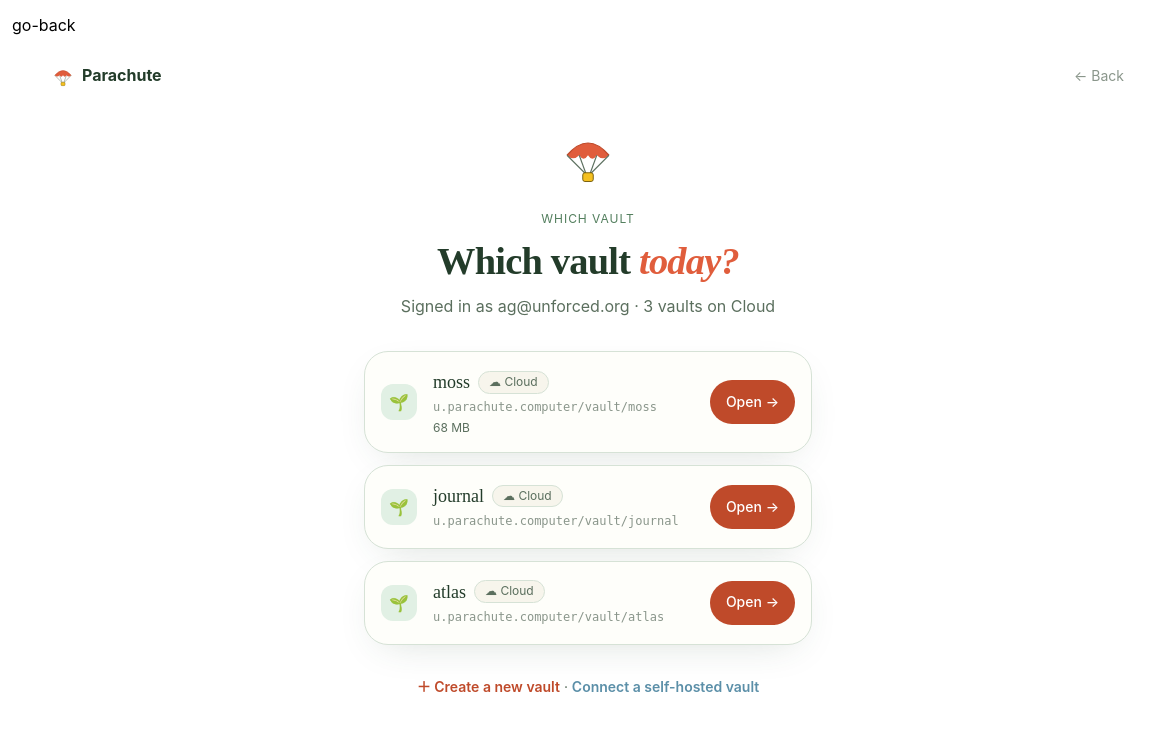
Scenario: Welcome (the post-sign-in dispatcher) › picker (many vaults) › opening a picked vault PUSHes / (NAVIGATION.md), so Back can return to the picker
This screenshot has width=1164, height=732.
Expected: the heading "Which vault today?" is shown, [437,240,739,282]
Click the button "Open →" next to "u.parachute.computer/vault/journal" at (752, 507), box [710,485,795,529]
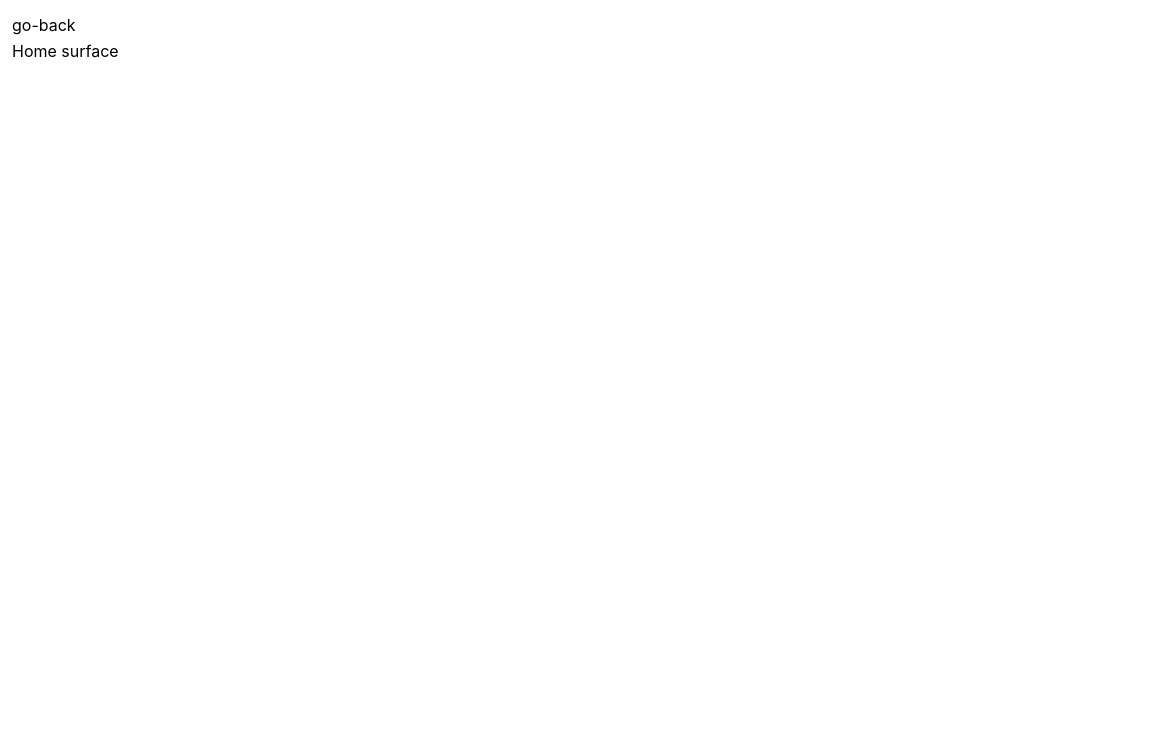
Now the text "Home surface" is shown, box [12,41,119,61]
